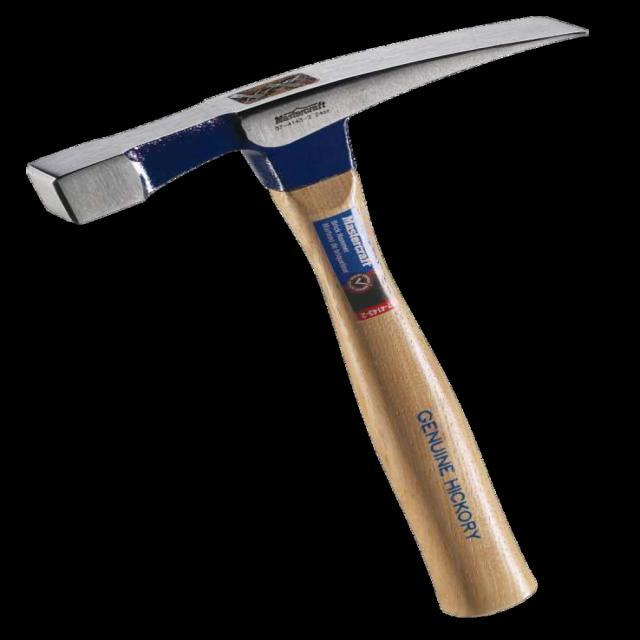hammer: (22, 12, 596, 630)
